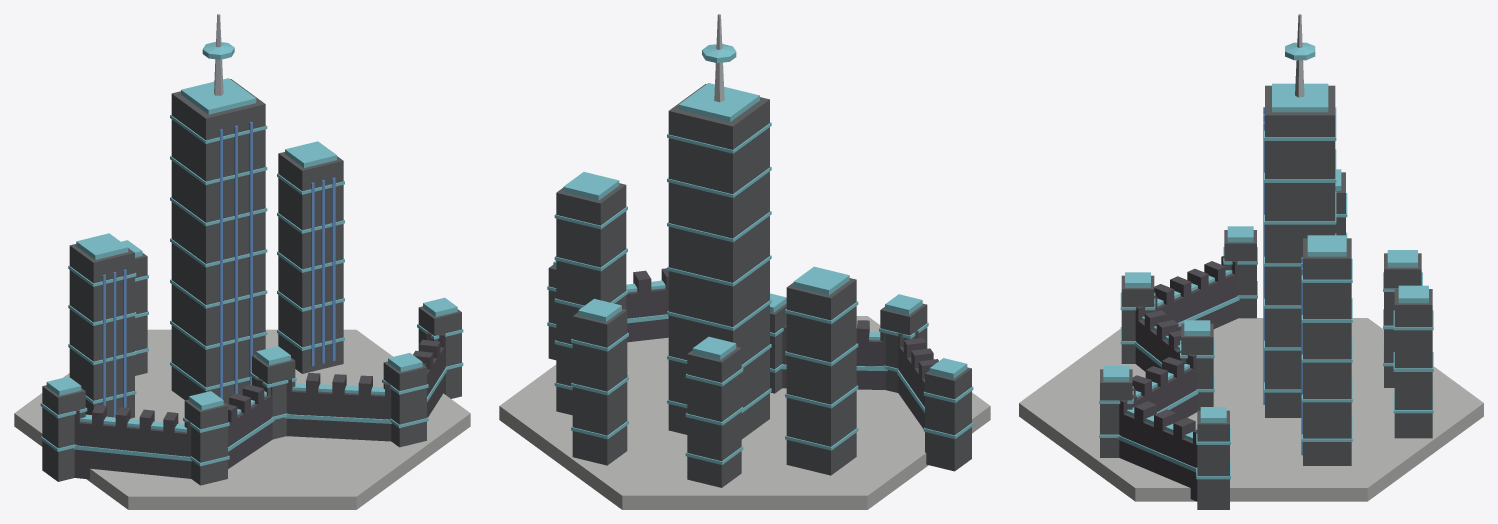
Rendered from great-firewall.glb.
3 views of the same model, side by side, from view 1: azimuth 30°, elevation 25°; view 2: azimuth 150°, elevation 25°; view 3: azimuth 270°, elevation 25° (orthographic). The views are drawn at different scales.
Visible parts, largest first — view 1: LOD0; view 2: LOD0; view 3: LOD0.
Boxes of the visible parts, x1=… form: LOD0: x1=14, y1=14, x2=470, y2=509; LOD0: x1=499, y1=14, x2=990, y2=509; LOD0: x1=1019, y1=14, x2=1483, y2=509.
Size of what is drawn, in the model's own units: 1.71 by 1.64 by 1.72.
